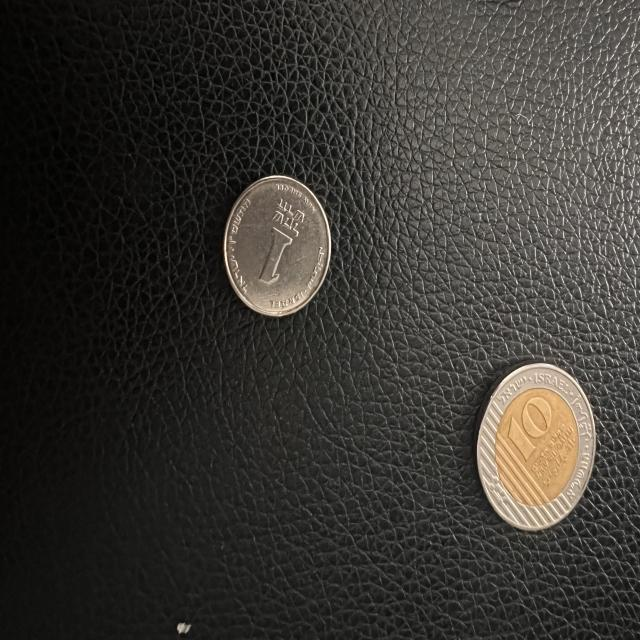1-shekel: (220, 166, 334, 333)
10-shekel: (459, 352, 600, 550)
